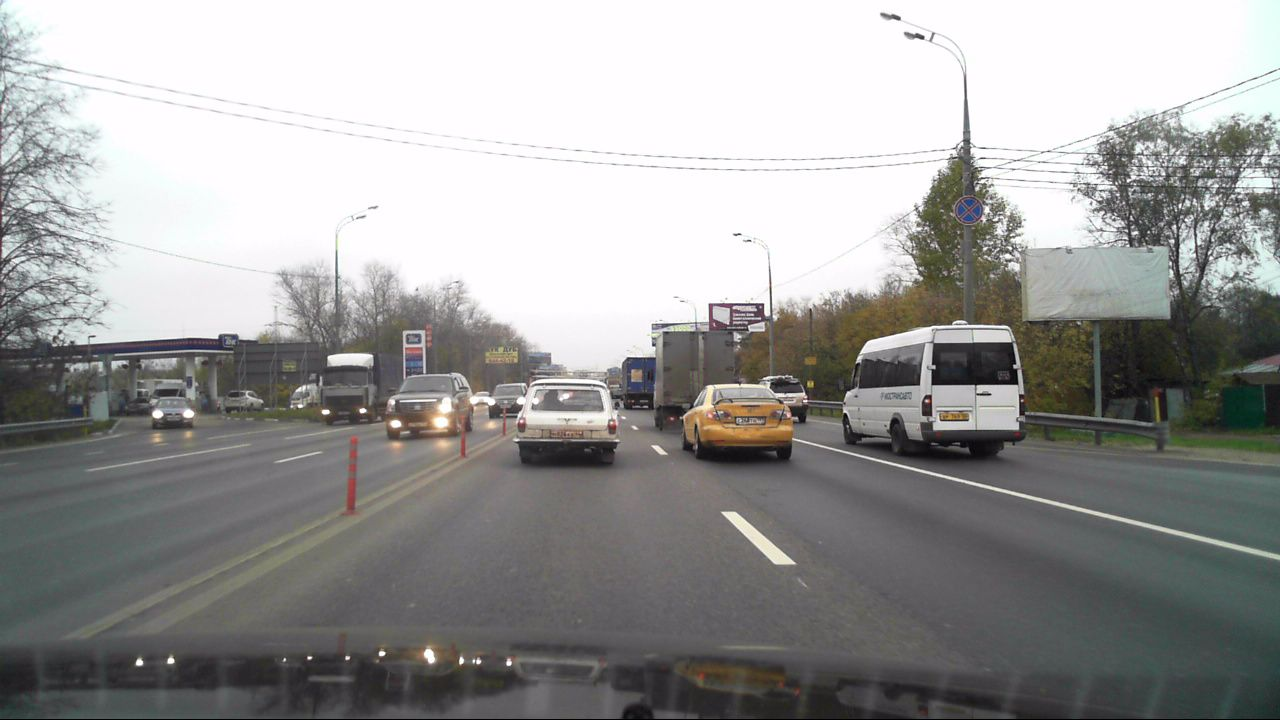No Parking: (952, 196, 983, 225)
